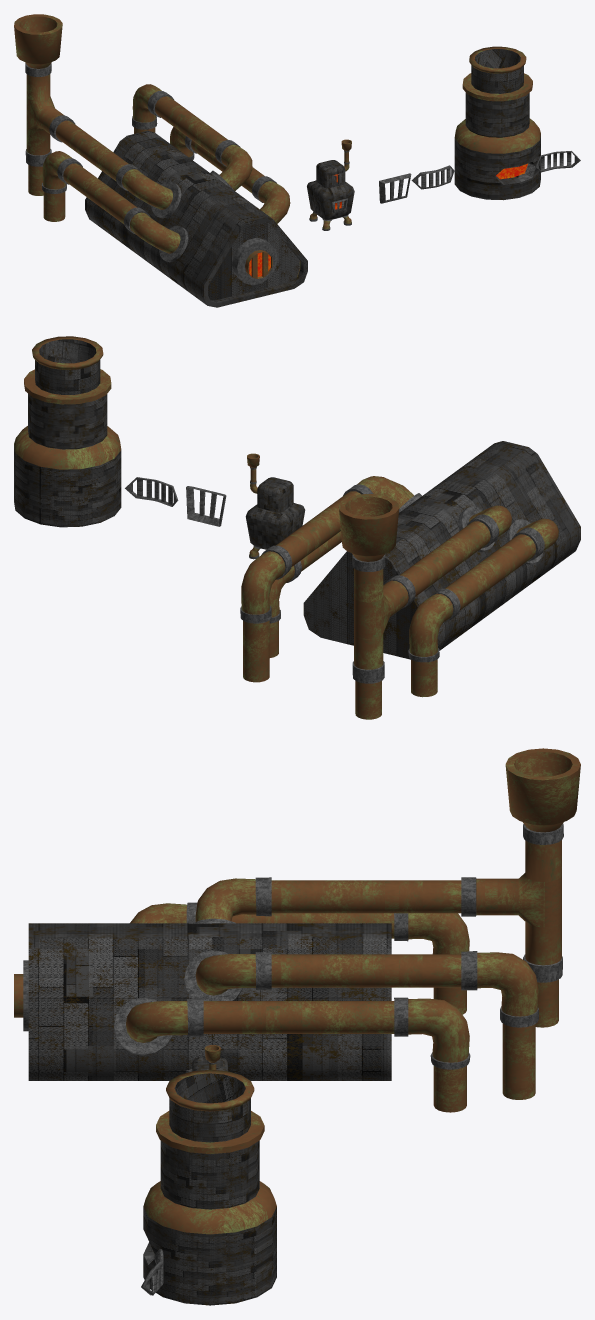
Rendered from furnace.fbx.
3 renders of one model, top to bottom at view 1: azimuth 30°, elevation 25°; view 2: azimuth 150°, elevation 25°; view 3: azimuth 270°, elevation 25°, orthographic. The views are drawn at different scales.
Visible parts, largest first — view 1: MegaFurnace, CakeFurnace, Furnace, FurnaceDoor_1, FurnaceDoor_2; view 2: MegaFurnace, CakeFurnace, Furnace, FurnaceDoor_2, FurnaceDoor_1; view 3: MegaFurnace, CakeFurnace.
Boxes of the visible parts, x1,y1,x2,y2 form: MegaFurnace: (14, 14, 307, 307); CakeFurnace: (454, 46, 580, 200); Furnace: (307, 139, 354, 230); FurnaceDoor_1: (411, 165, 454, 189); FurnaceDoor_2: (379, 173, 411, 203); MegaFurnace: (240, 441, 580, 719); CakeFurnace: (14, 336, 121, 527); Furnace: (245, 453, 305, 559); FurnaceDoor_2: (186, 486, 226, 526); FurnaceDoor_1: (125, 477, 178, 506); MegaFurnace: (14, 748, 580, 1112); CakeFurnace: (141, 1069, 276, 1305).
Bounding box in the file's own units: 16.06 × 5.87 × 11.77.
